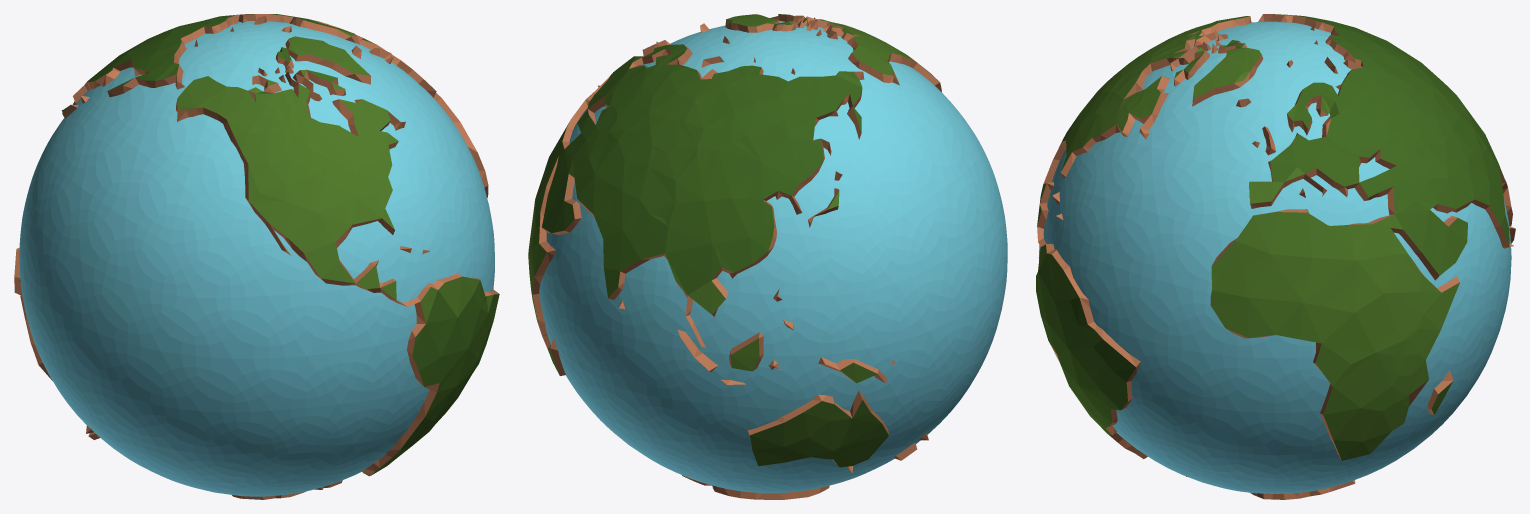
The model's file is LowPolyEarth_Final.glb.
3 renders of one model, left to right at view 1: azimuth 30°, elevation 25°; view 2: azimuth 150°, elevation 25°; view 3: azimuth 270°, elevation 25°, orthographic.
Parts seen in each view (by area): view 1: Ocean, LowPolyEarth.001; view 2: Ocean, LowPolyEarth.001; view 3: Ocean, LowPolyEarth.001.
Part boxes in pixels (left/top/right/bottom): Ocean: left=19, top=21, right=494, bottom=496; LowPolyEarth.001: left=14, top=14, right=499, bottom=499; Ocean: left=539, top=21, right=1007, bottom=493; LowPolyEarth.001: left=528, top=14, right=941, bottom=499; Ocean: left=1038, top=21, right=1511, bottom=493; LowPolyEarth.001: left=1036, top=14, right=1515, bottom=499.
Size of the model in its own units: 2.02 by 2.05 by 2.03.
Materials: 2 (2 with a texture image).
